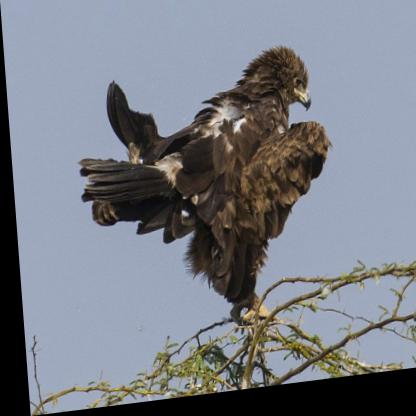Burung: (69, 48, 337, 350)
